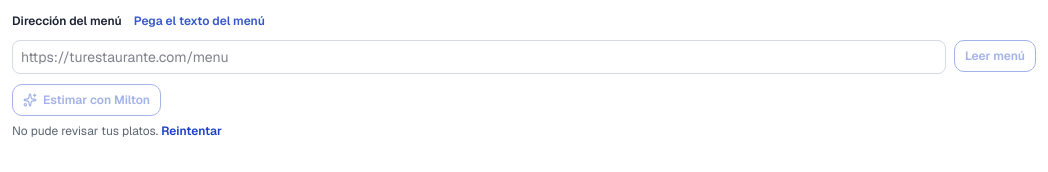
Scenario: MenuReaderPanel · Estimar con Milton › a failed check says so and offers Reintentar
Check: the text "No pude revisar tus platos. Reintentar" is shown, box [12,122,222,140]
Click the button "Reintentar".
click(191, 131)  # box [161,122,222,140]
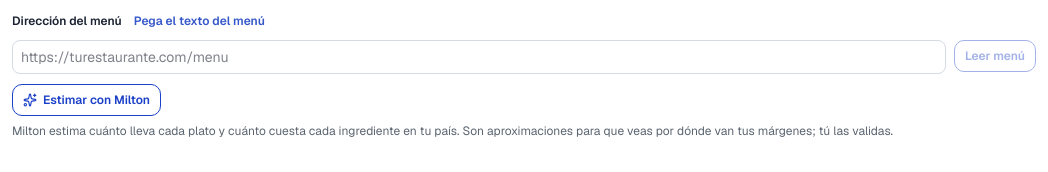
Check: the text "Milton estima cuánto lleva cada plato" is shown, box [12,123,893,139]
